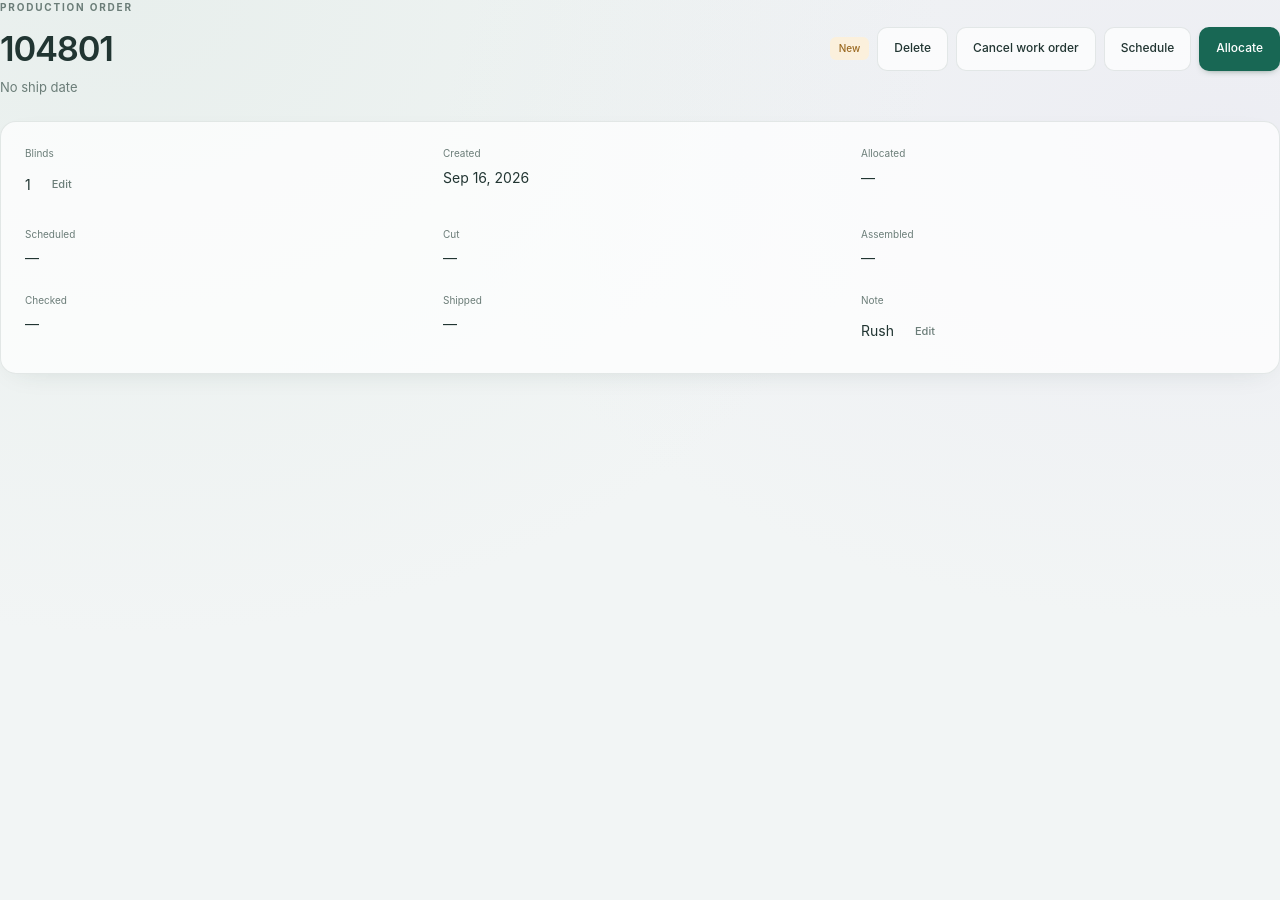
Test case: keeps a refused delete in its dialog
Click the button "Delete" at (913, 48), box [877,26,948,70]
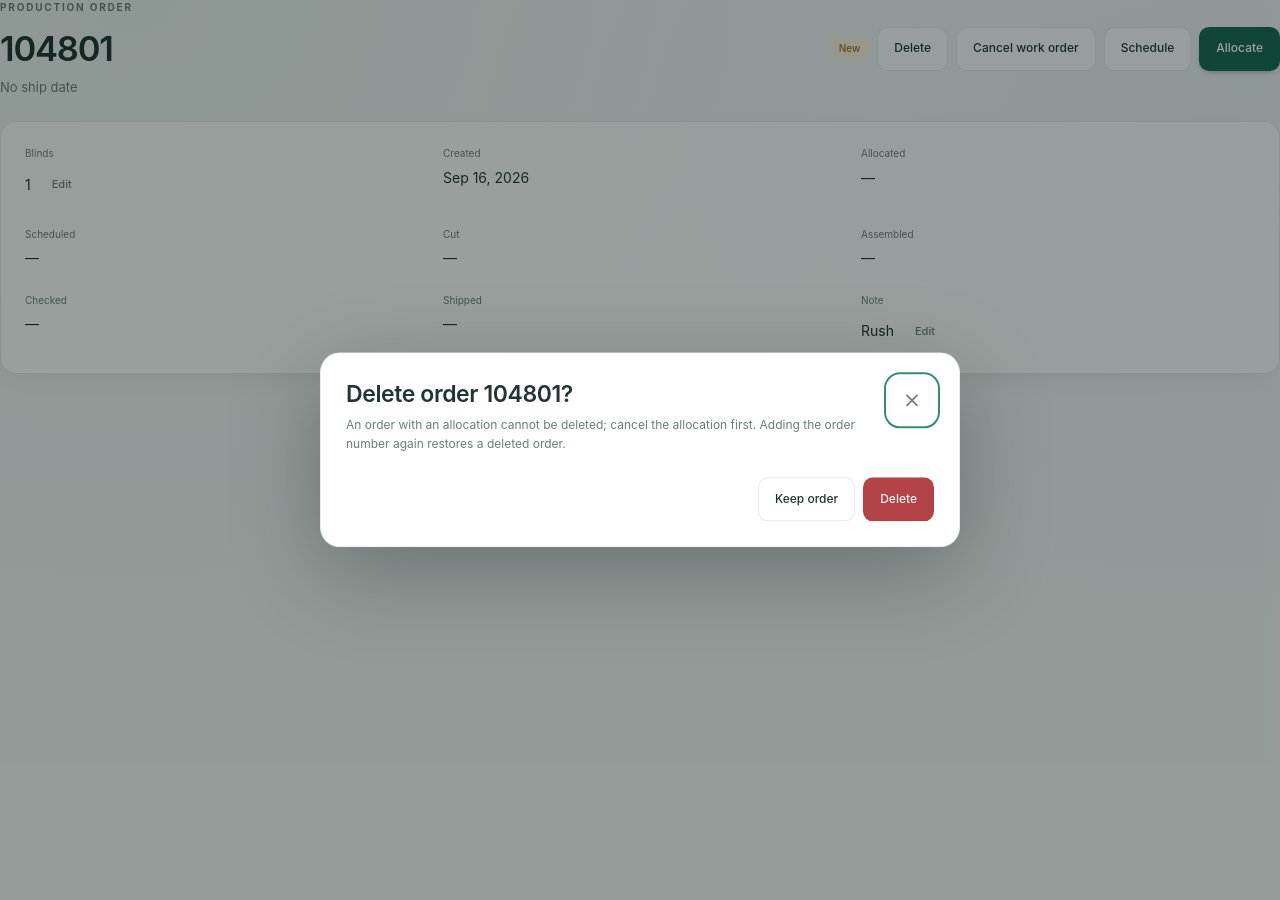
Click the button "Delete" at (899, 500), box [863,478,934,522]
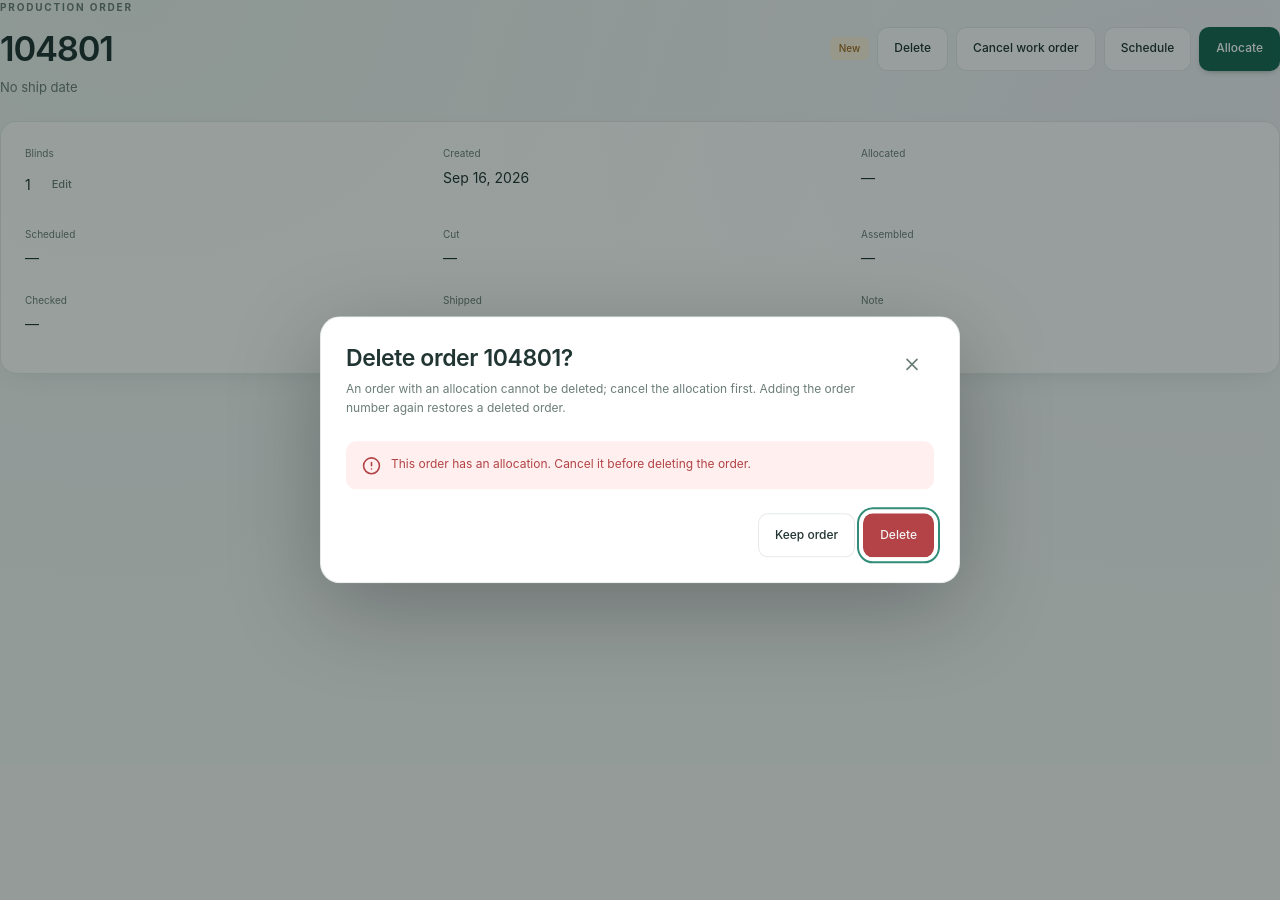
Result: the message reads "This order has an allocation. Cancel it before deleting the order." at [391,457,751,472]
